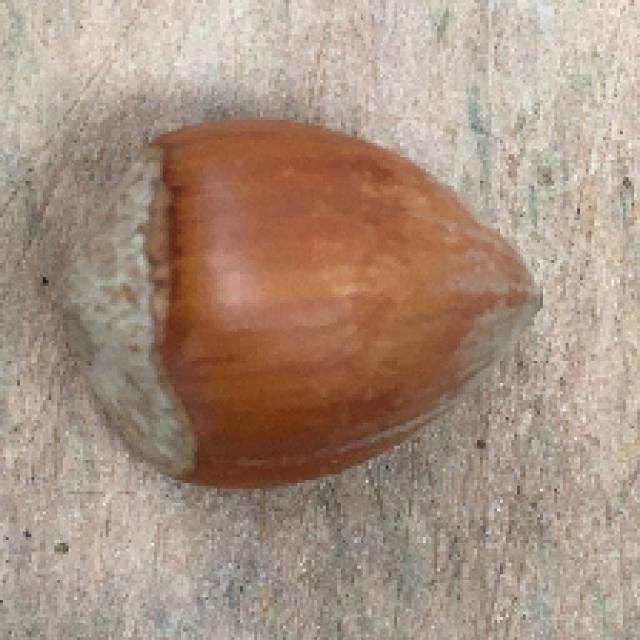hazelnut: (55, 113, 555, 493)
